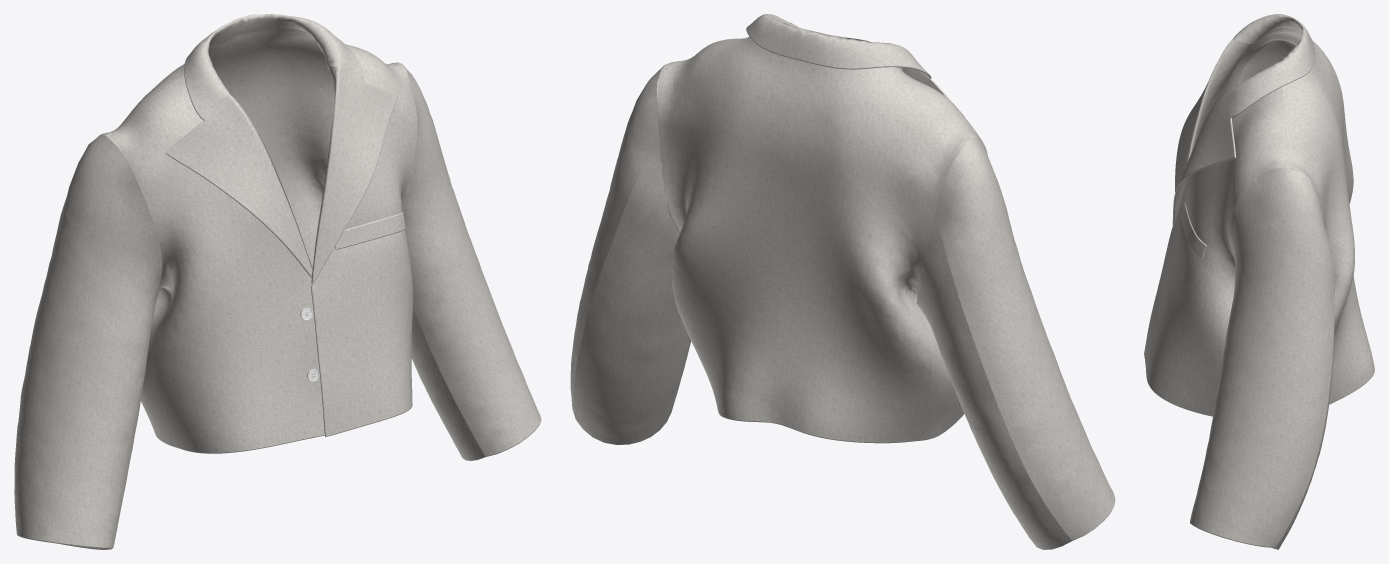
The model's file is Look 12.gltf.
3 renders of one model, left to right at view 1: azimuth 30°, elevation 25°; view 2: azimuth 150°, elevation 25°; view 3: azimuth 270°, elevation 25°, orthographic. The views are drawn at different scales.
Visible parts, largest first — view 1: Cloth, Pattern_10455884; view 2: Cloth; view 3: Cloth, Pattern_10455884.
Part boxes in pixels (bbox=[...]): Cloth: bbox=[14, 14, 541, 549]; Pattern_10455884: bbox=[335, 212, 405, 249]; Cloth: bbox=[570, 14, 1115, 549]; Cloth: bbox=[1144, 14, 1374, 549]; Pattern_10455884: bbox=[1181, 203, 1206, 259].
Bounding box in the file's own units: 0.9155 × 0.7974 × 0.3916.
4 materials, 3 textured.
